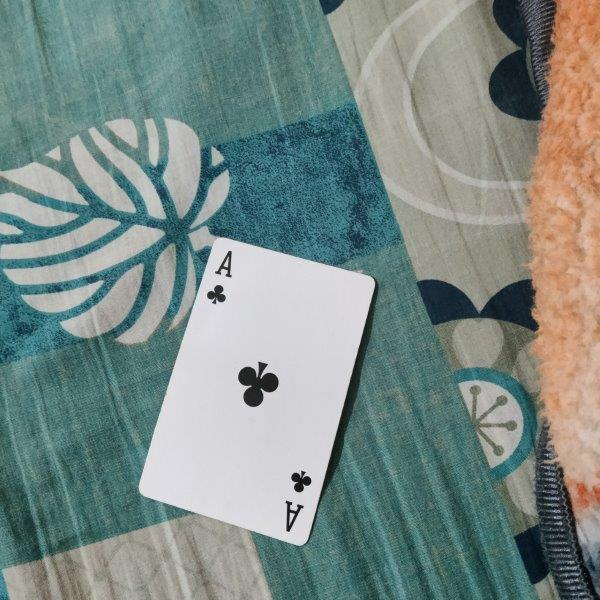Ace of Clubs: (138, 237, 377, 547)
